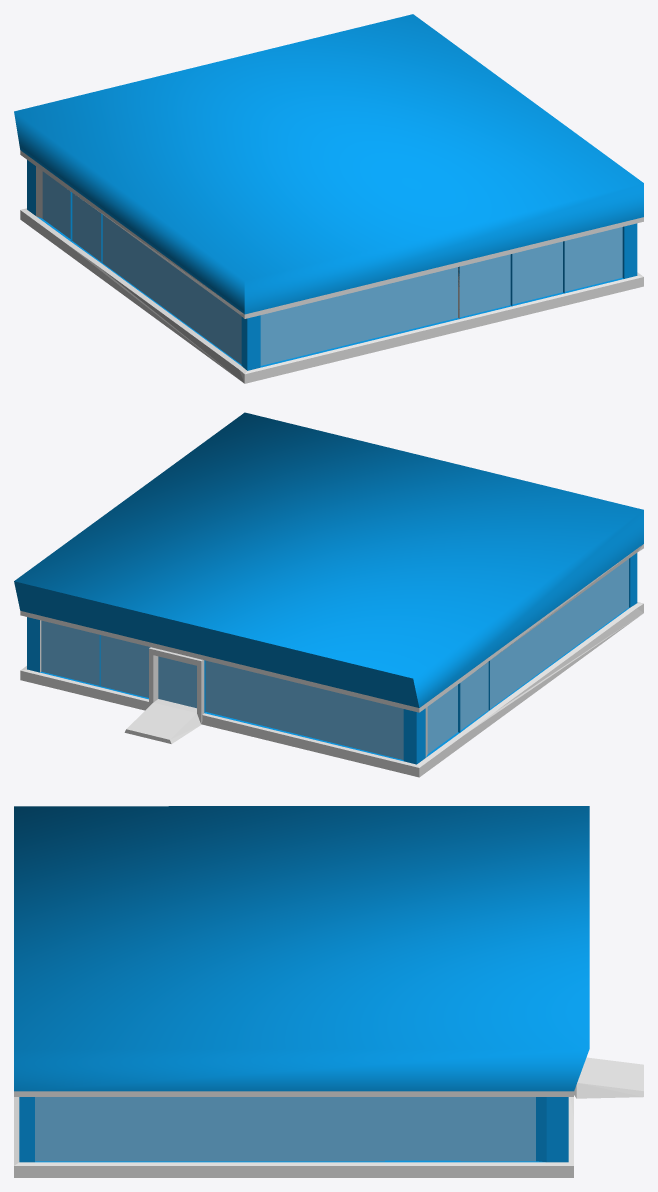
The model's file is Shop8x8x1Blue.fbx.
The picture shows the model from 3 angles, top to bottom: view 1: azimuth 30°, elevation 25°; view 2: azimuth 150°, elevation 25°; view 3: azimuth 270°, elevation 25°; orthographic projection. The views are drawn at different scales.
Visible parts, largest first — view 1: Shop.001; view 2: Shop.001; view 3: Shop.001.
Part boxes in pixels (x1,y1,x2,y2): Shop.001: [14, 14, 643, 383]; Shop.001: [14, 412, 643, 777]; Shop.001: [14, 806, 643, 1177].
Bounding box in the file's own units: 4.02 × 0.9949 × 4.4.
1 material, 1 textured.
